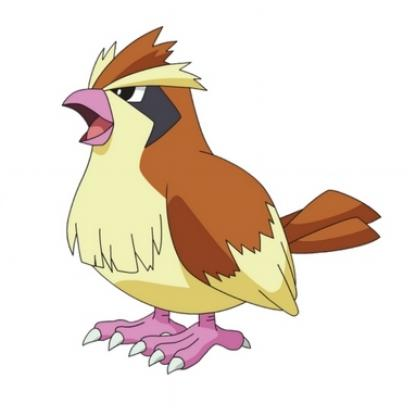Pidgey: (40, 27, 388, 369)
